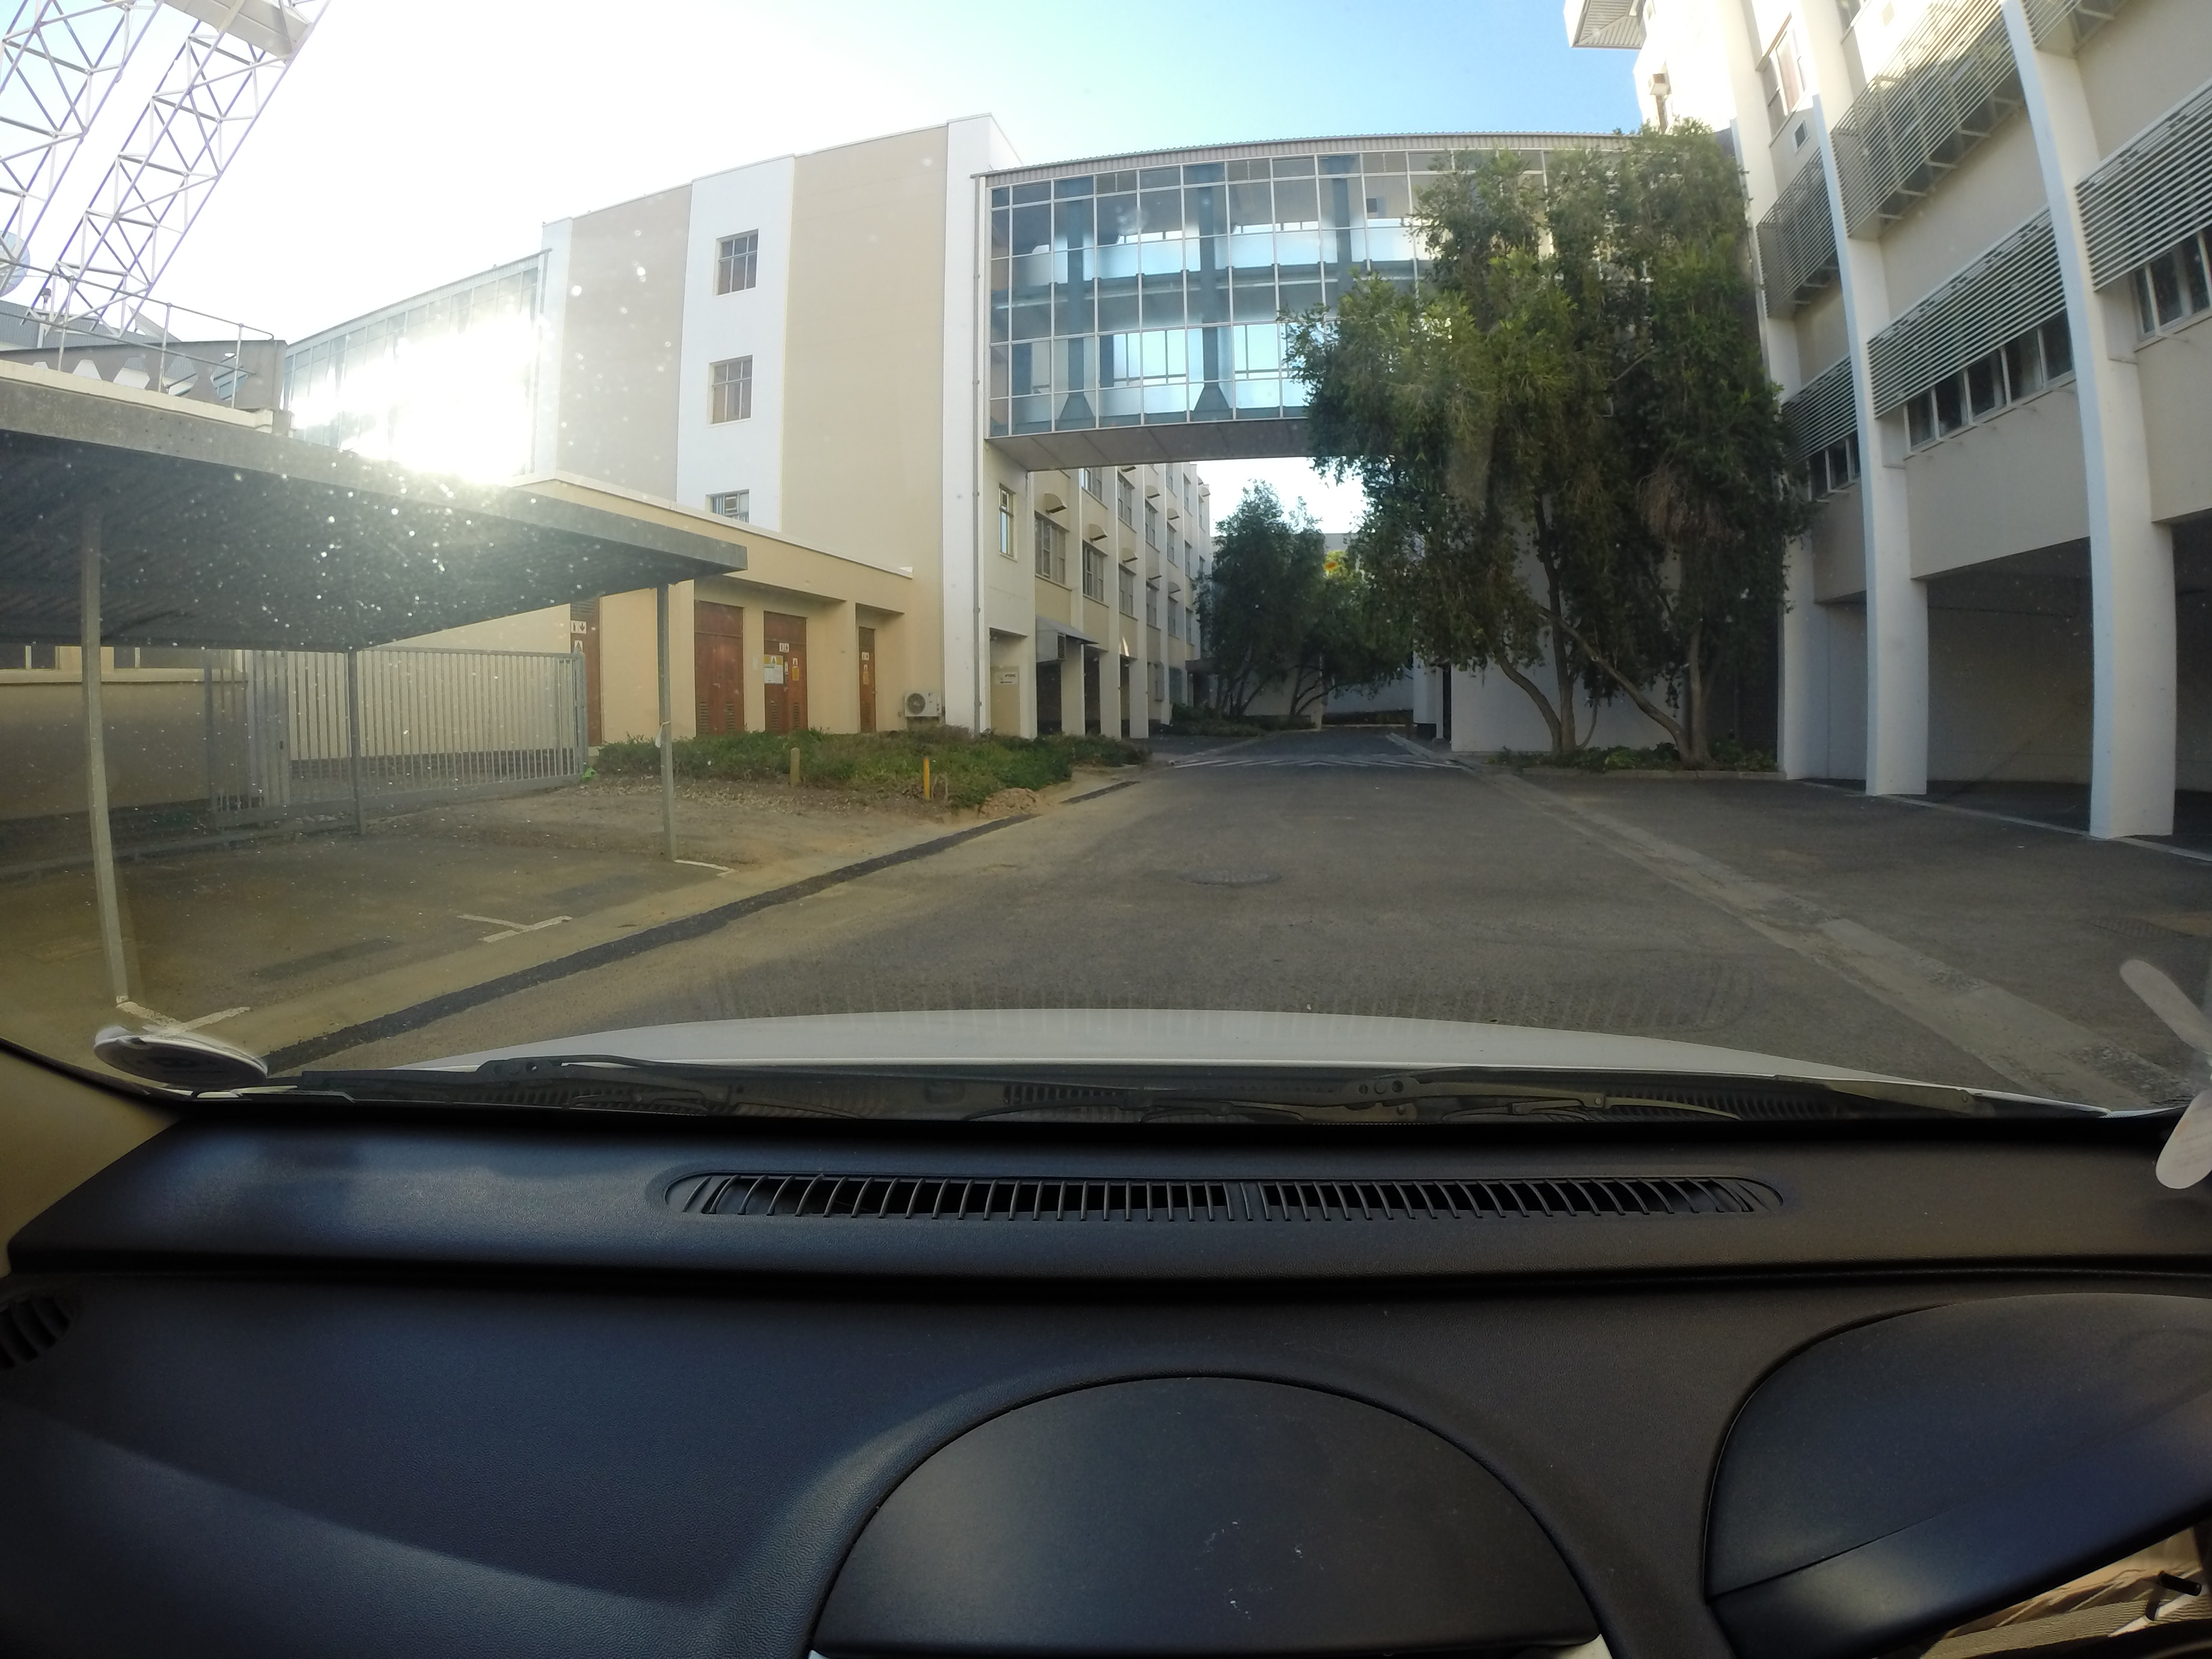pothole: (963, 861, 1033, 878)
